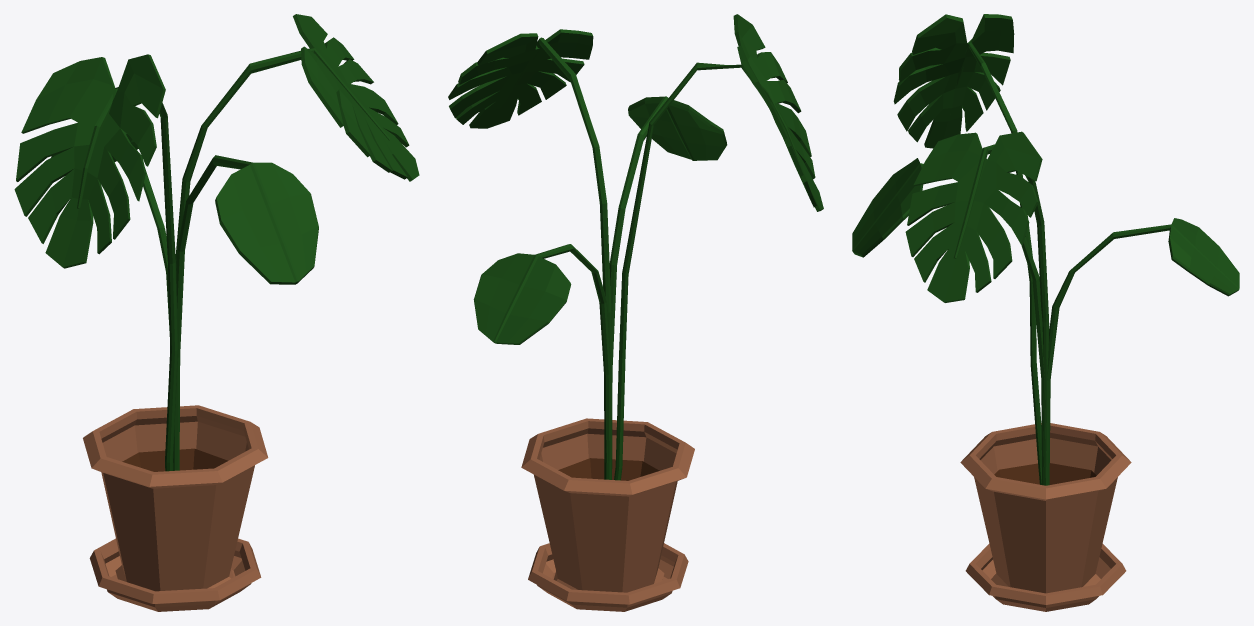
The model's file is Monstera.glb.
3 renders of one model, left to right at view 1: azimuth 30°, elevation 25°; view 2: azimuth 150°, elevation 25°; view 3: azimuth 270°, elevation 25°, orthographic. The views are drawn at different scales.
Visible parts, largest first — view 1: Monstera; view 2: Monstera; view 3: Monstera.
Part boxes in pixels (x1,y1,x2,y2): Monstera: (14, 14, 419, 611); Monstera: (448, 14, 823, 611); Monstera: (852, 14, 1239, 611).
Bounding box in the file's own units: 1.13 × 1.67 × 1.09.
